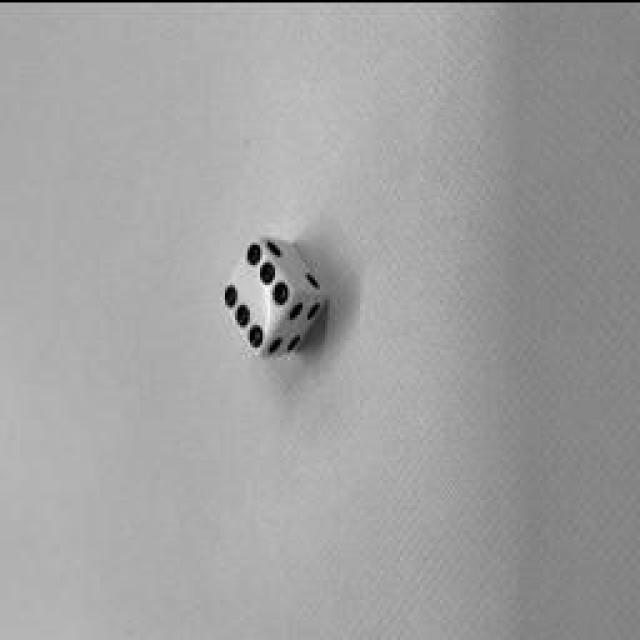dice_6: (220, 233, 295, 355)
